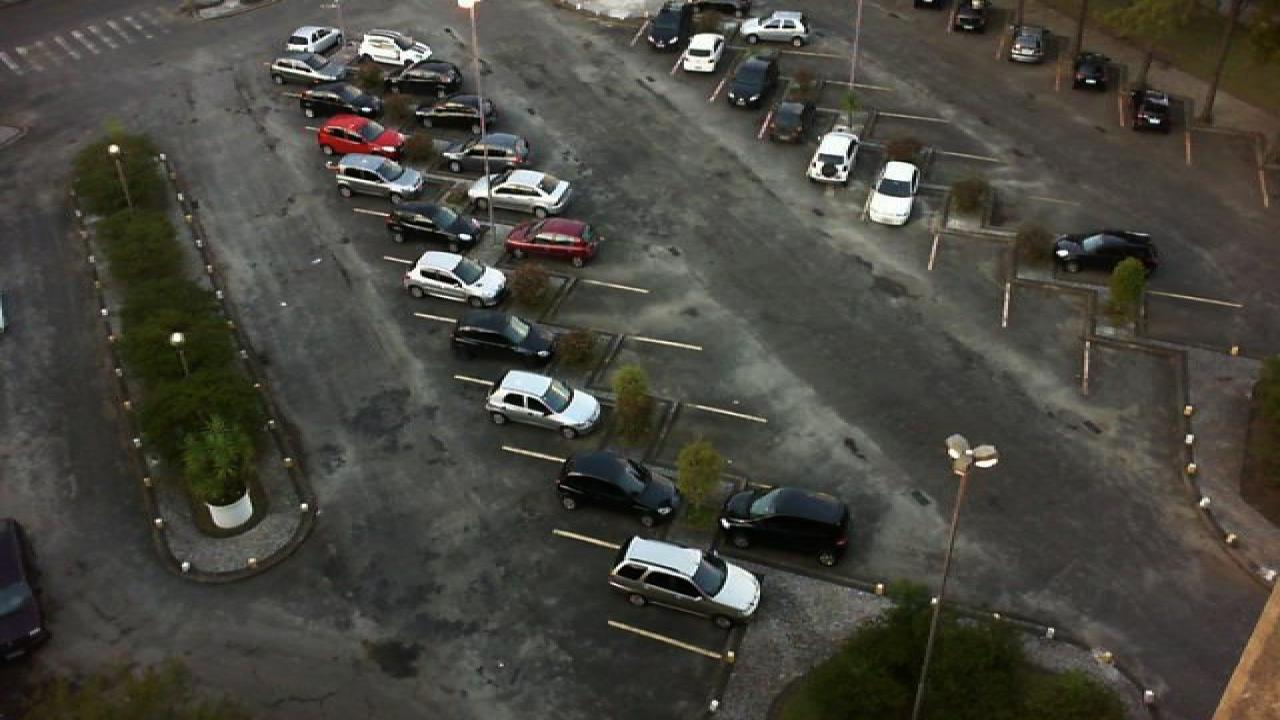Car: (606, 534, 766, 630), (716, 482, 854, 564), (554, 450, 682, 526), (484, 369, 604, 440), (402, 249, 512, 308), (448, 307, 558, 365), (466, 167, 576, 222), (382, 198, 486, 253), (324, 153, 424, 203), (1052, 228, 1160, 274), (504, 216, 596, 268), (314, 112, 408, 160), (438, 132, 530, 176), (862, 160, 920, 227), (718, 55, 782, 109), (804, 127, 862, 185), (354, 29, 434, 70), (412, 92, 484, 133), (298, 82, 376, 119), (638, 1, 694, 52), (738, 9, 812, 47), (390, 58, 462, 96), (266, 55, 348, 88), (762, 97, 816, 144), (676, 30, 730, 76), (1132, 89, 1182, 133), (284, 23, 346, 58), (1002, 23, 1050, 64), (1070, 49, 1112, 92), (950, 0, 988, 34)
